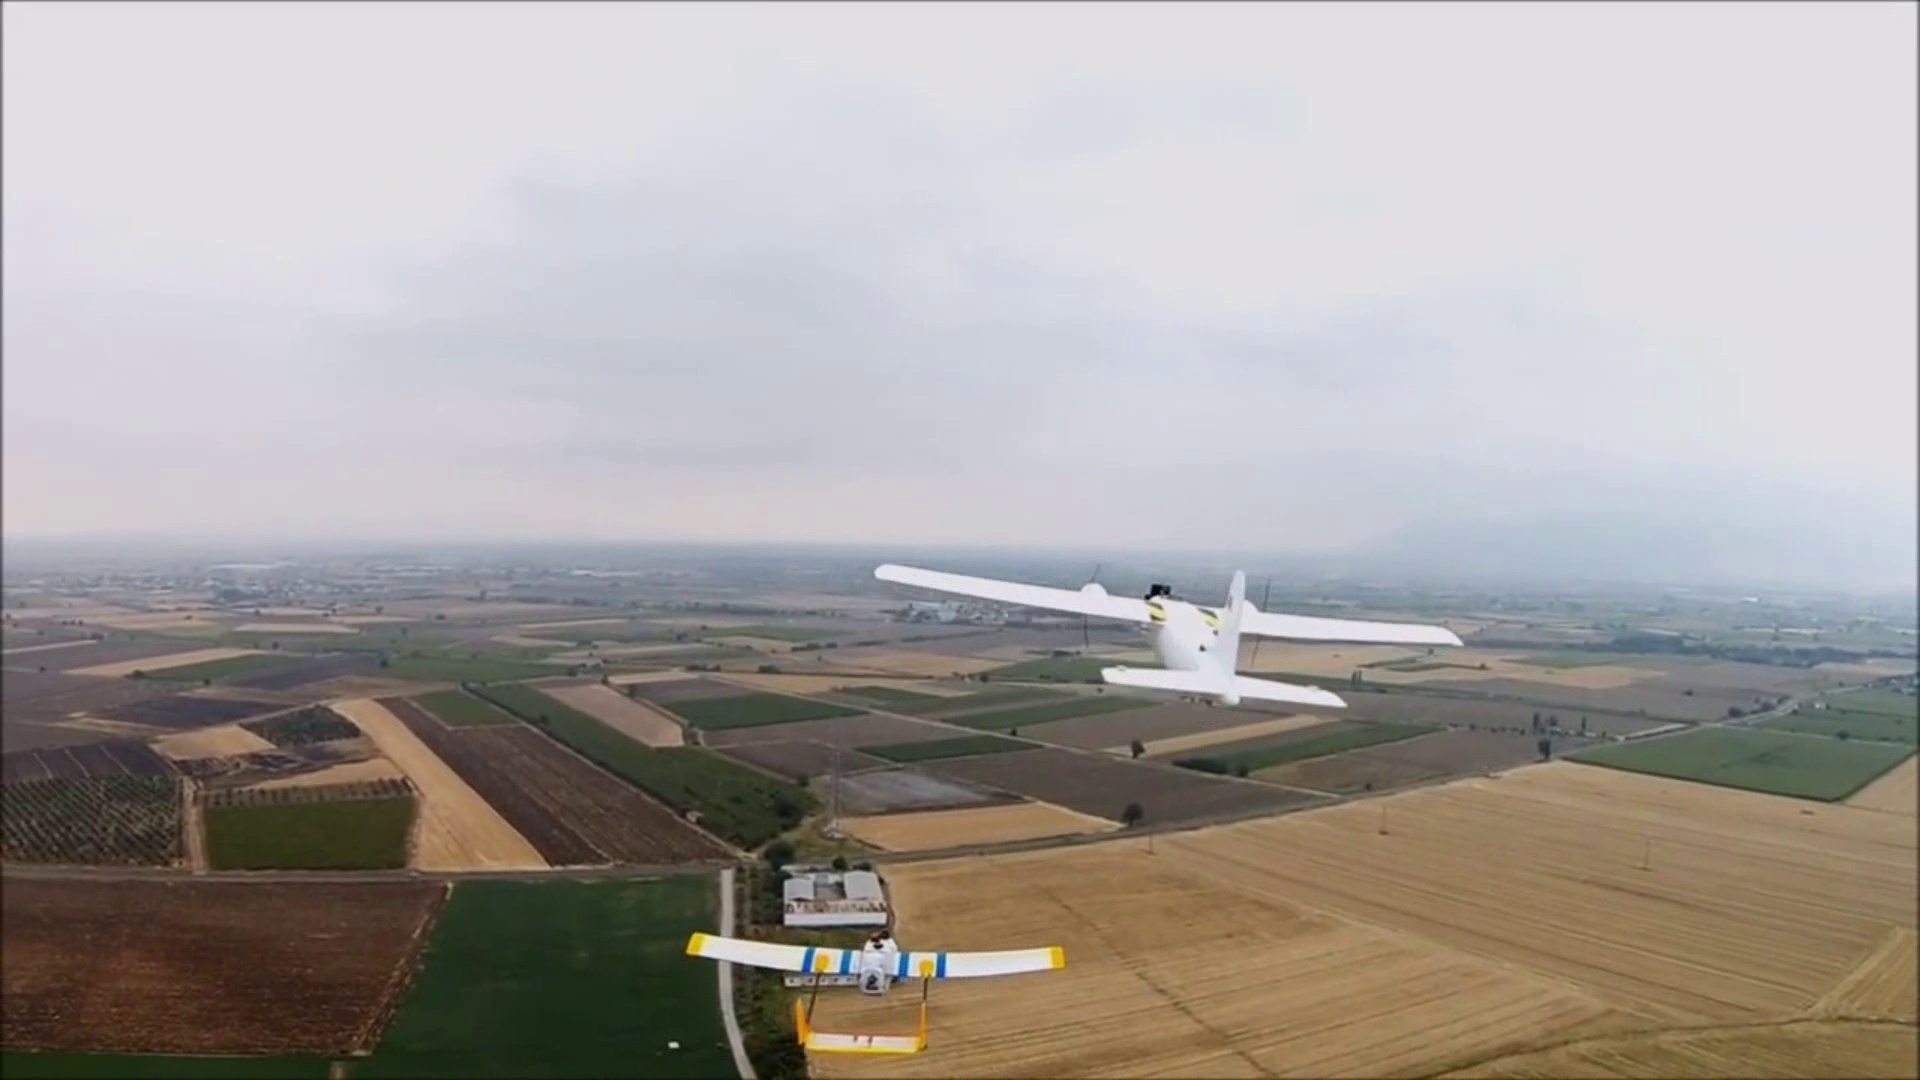airplane: (872, 559, 1472, 711)
